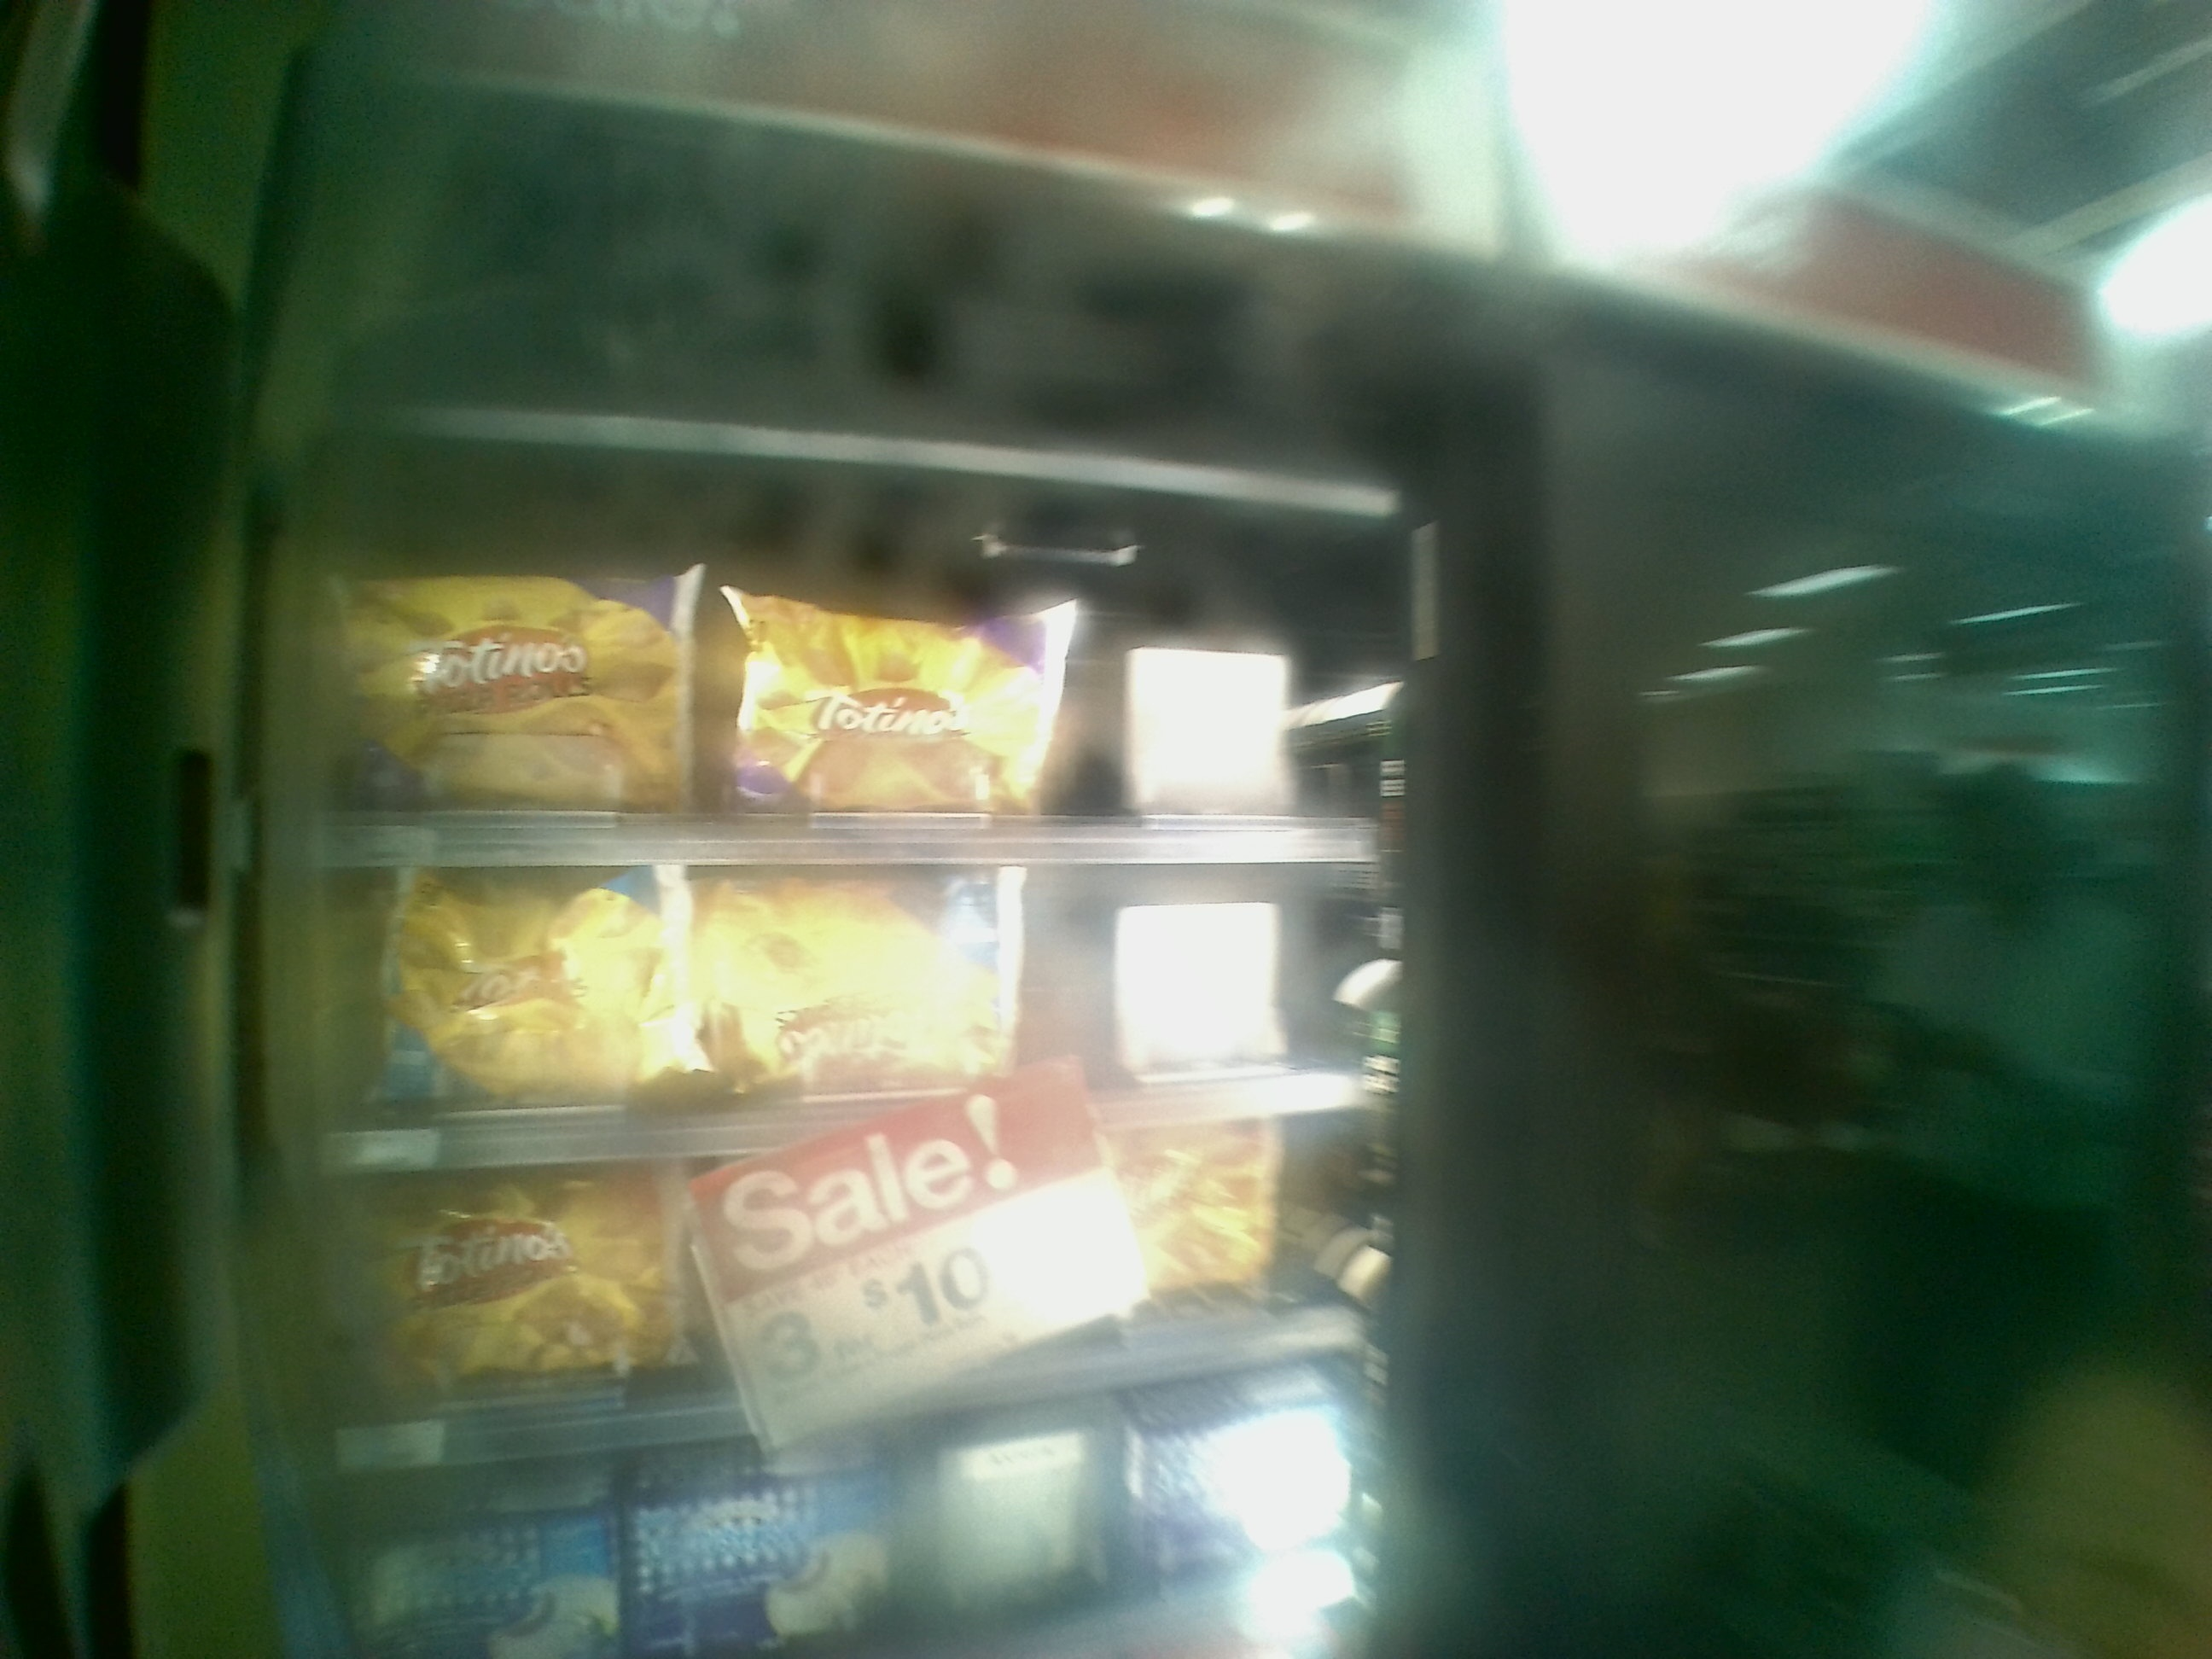shelf: (296, 829, 1388, 1143), (296, 1154, 1393, 1399)
